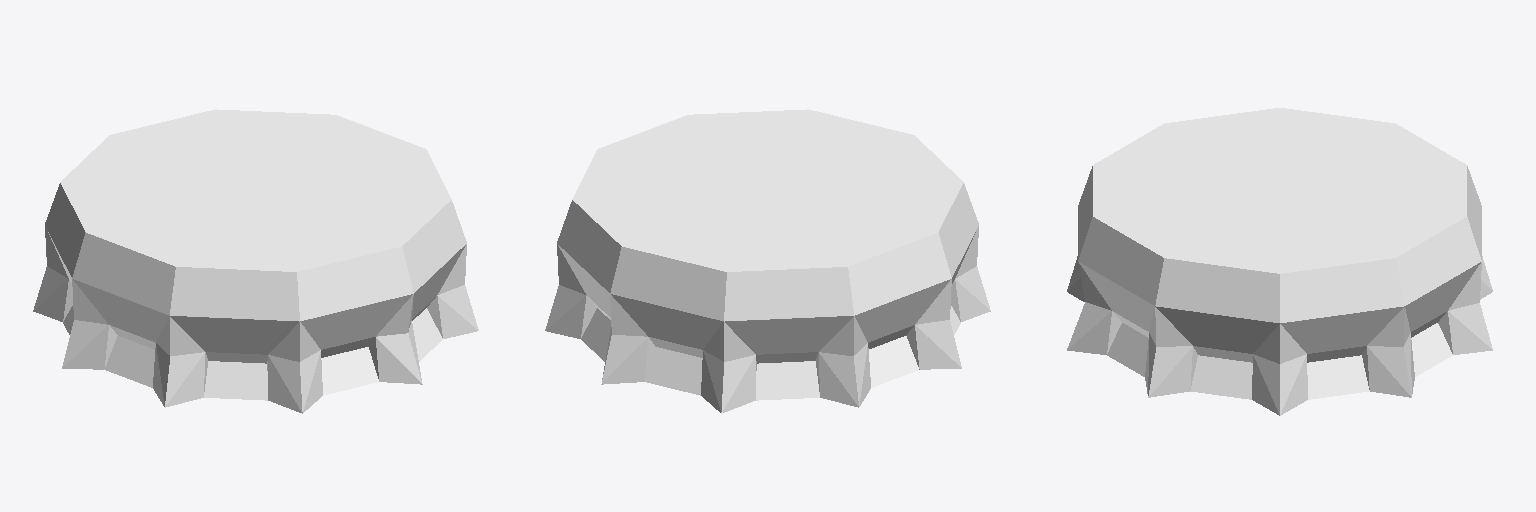
The model's file is bottlecap 1.obj.
3 views of the same model, side by side, from view 1: azimuth 30°, elevation 25°; view 2: azimuth 150°, elevation 25°; view 3: azimuth 270°, elevation 25° (orthographic).
Visible parts, largest first — view 1: pCylinder1_initialShadingGroup; view 2: pCylinder1_initialShadingGroup; view 3: pCylinder1_initialShadingGroup.
Part boxes in pixels (left/top/right/bottom): pCylinder1_initialShadingGroup: left=33, top=109, right=478, bottom=413; pCylinder1_initialShadingGroup: left=545, top=109, right=990, bottom=413; pCylinder1_initialShadingGroup: left=1067, top=108, right=1492, bottom=415.
Size of the model in its own units: 228 by 73.11 by 217.